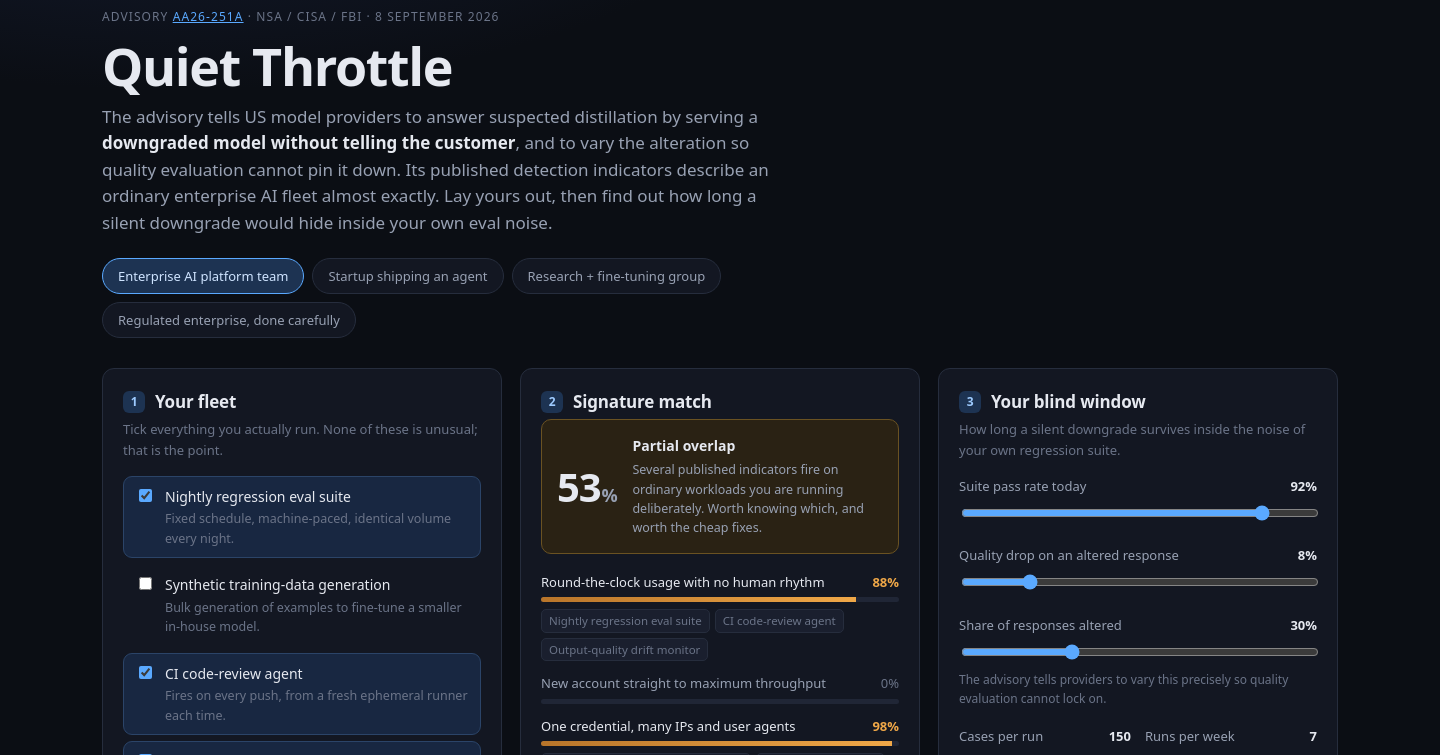
Test: App › expands an indicator to show the advisory text and the mitigation
Click the button "One credential, many IPs and user agents 98%" at [720, 728], box 541,716 -> 899,741
(page scrolled)
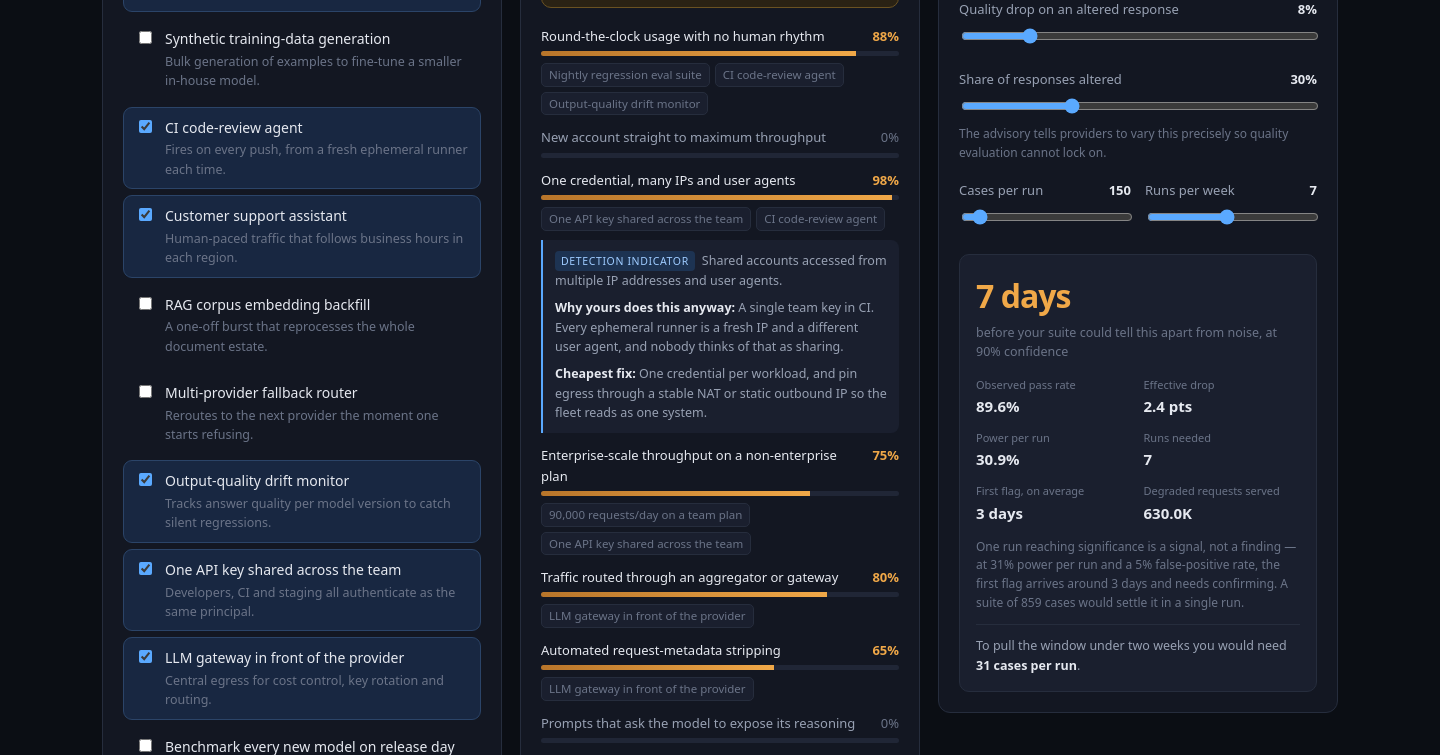
Now the button "One credential, many IPs and user agents 98%" is expanded, box 541,170 -> 899,195
Now the text "Why yours does this anyway:" is shown, box 555,299 -> 735,316
Now the text "Cheapest fix:" is shown, box 555,365 -> 636,382
